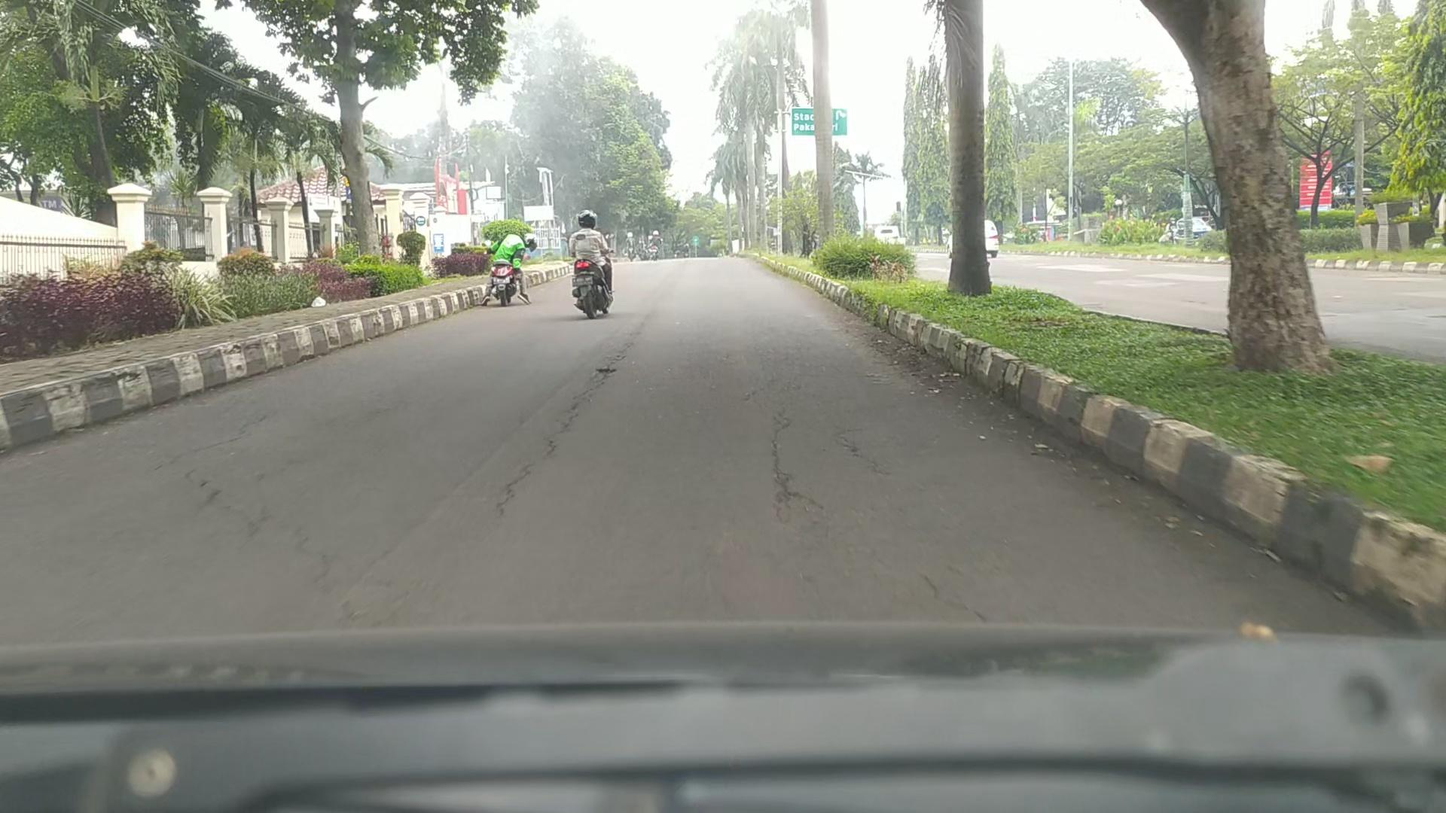pothole: (594, 368, 618, 377)
